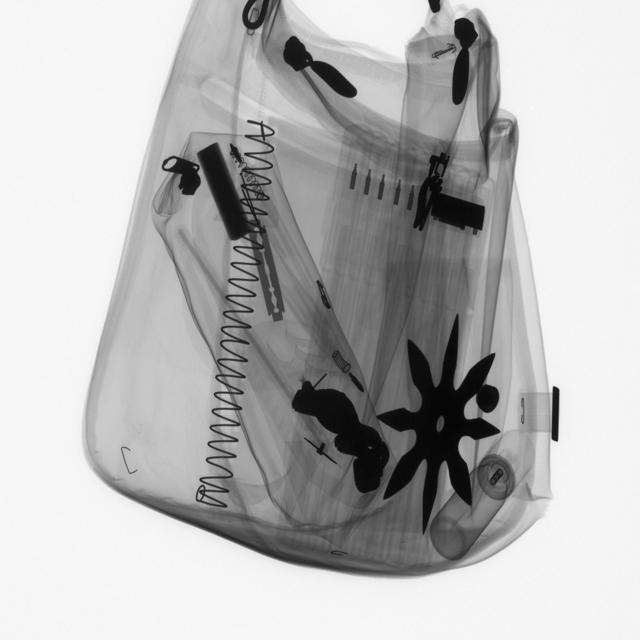razor: (248, 220, 290, 326)
shuriken: (377, 324, 508, 530)
